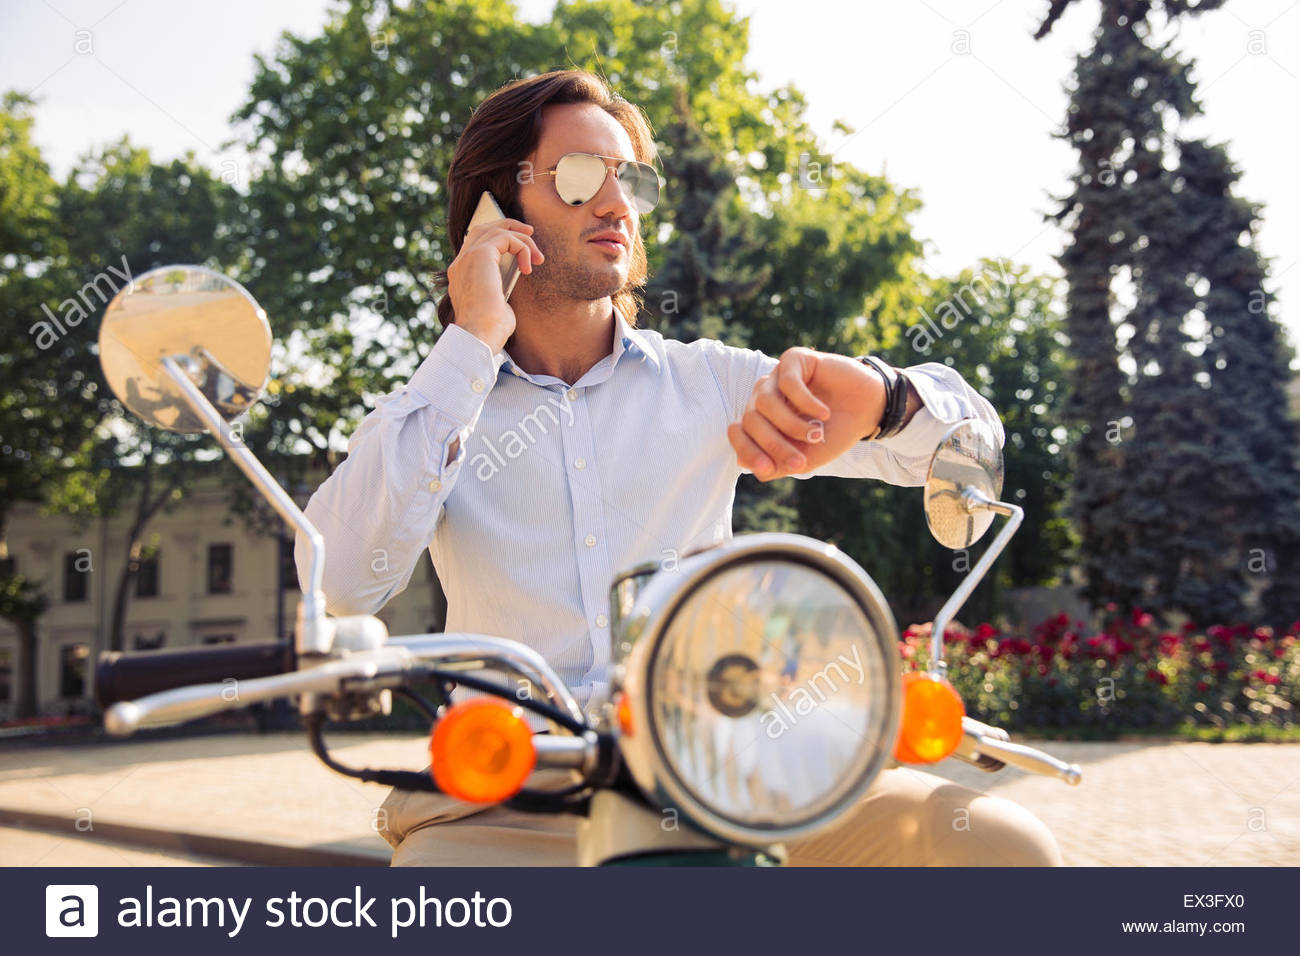dieu khien xe may: (369, 72, 973, 870)
su dung dien thoai: (436, 77, 662, 388)
